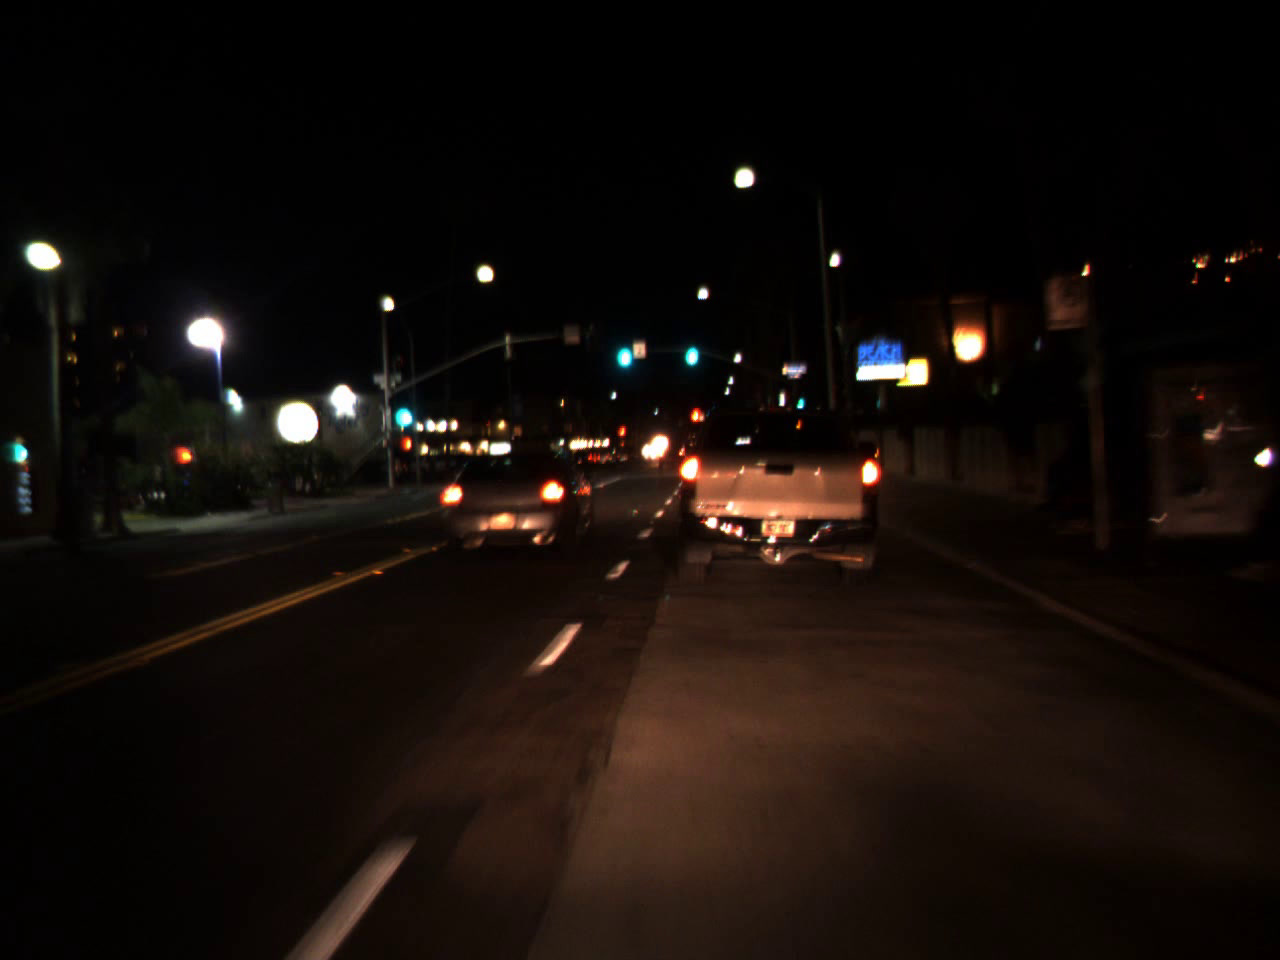go: (388, 383, 415, 434), (611, 323, 636, 374), (680, 324, 701, 372), (793, 384, 807, 414)
